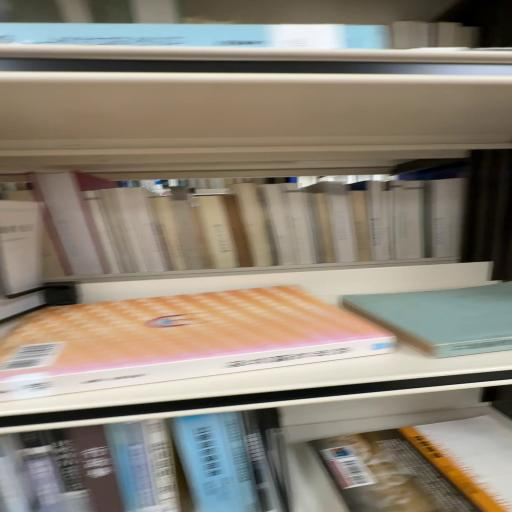flat: (0, 286, 396, 402)
